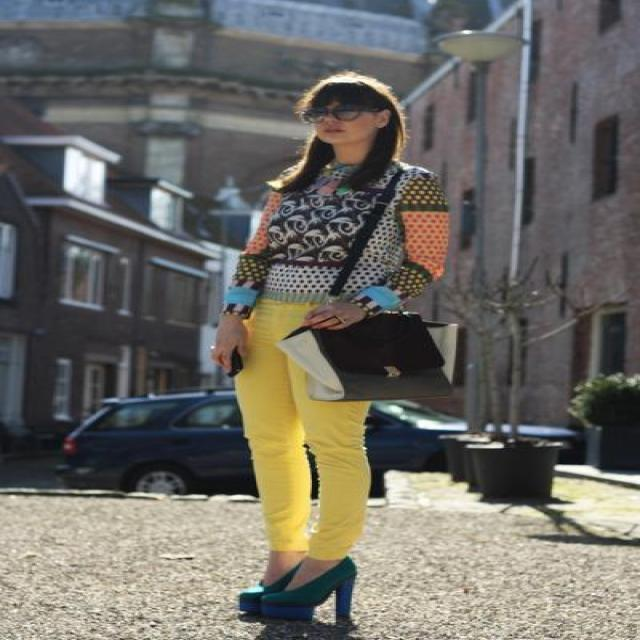bag: (276, 306, 462, 403)
jacket: (211, 166, 450, 314)
pants: (227, 294, 387, 568)
shoe: (270, 557, 364, 615)
